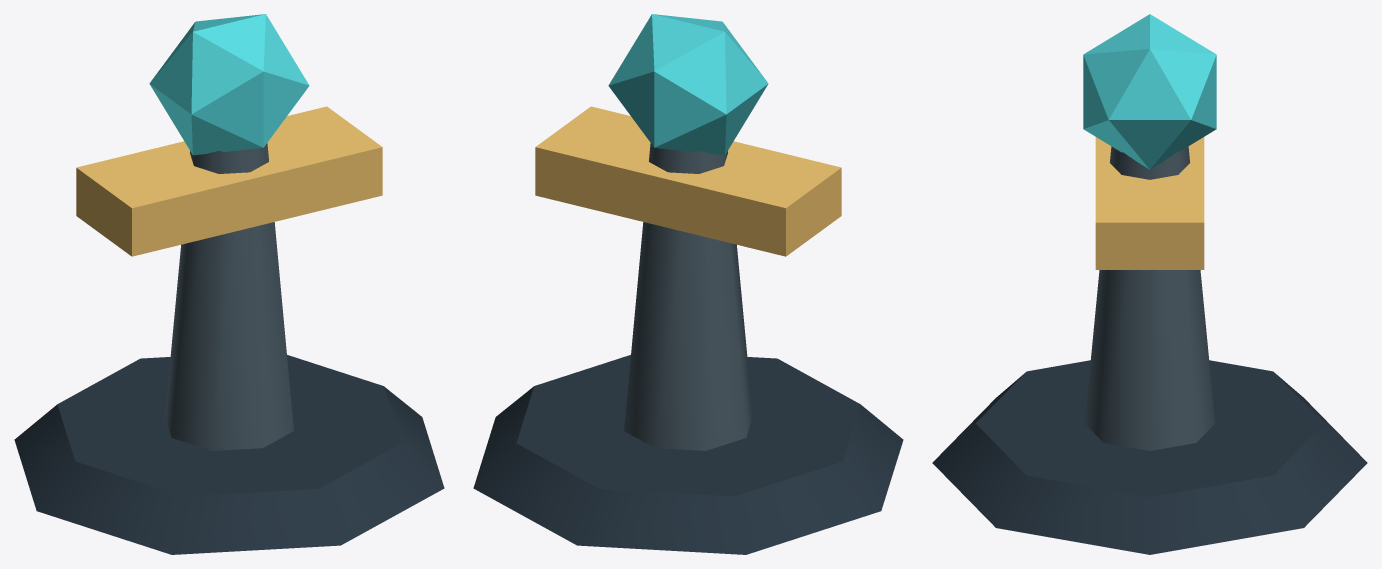
File: terrain-beacon.glb
The picture shows the model from 3 angles, left to right: view 1: azimuth 30°, elevation 25°; view 2: azimuth 150°, elevation 25°; view 3: azimuth 270°, elevation 25°; orthographic projection. The views are drawn at different scales.
Parts seen in each view (by area): view 1: terrain-beacon; view 2: terrain-beacon; view 3: terrain-beacon.
Boxes of the visible parts, x1=… form: terrain-beacon: x1=14, y1=14, x2=444, y2=554; terrain-beacon: x1=473, y1=14, x2=903, y2=554; terrain-beacon: x1=932, y1=14, x2=1367, y2=554.
Size of the model in its own units: 1 by 1.09 by 1.
